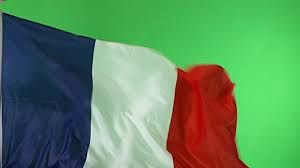French Flag: (1, 11, 251, 168)
